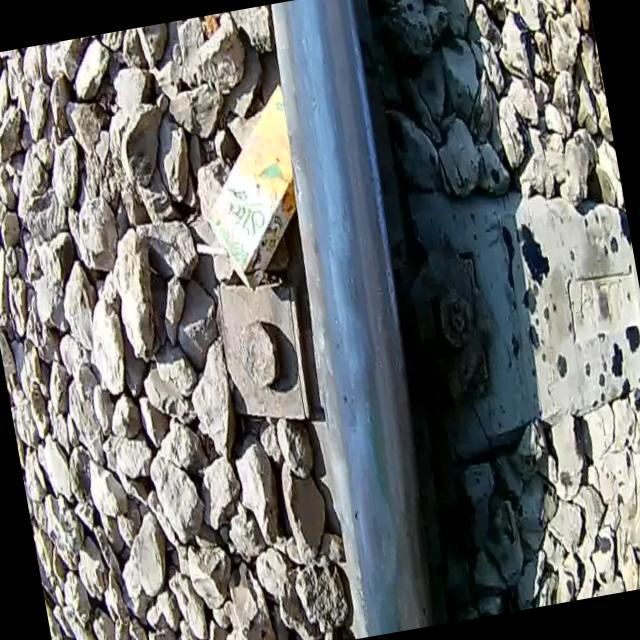Spallings: (294, 0, 458, 630)
Squats: (343, 462, 414, 604)
